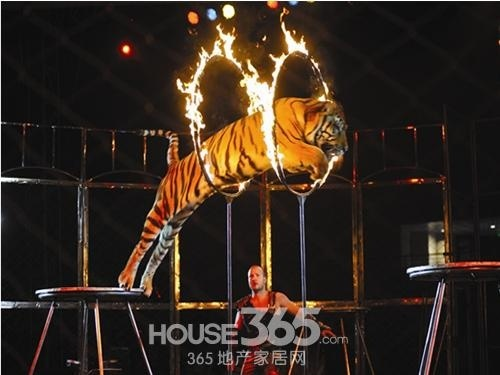fire: (179, 15, 324, 173), (176, 42, 209, 146)
